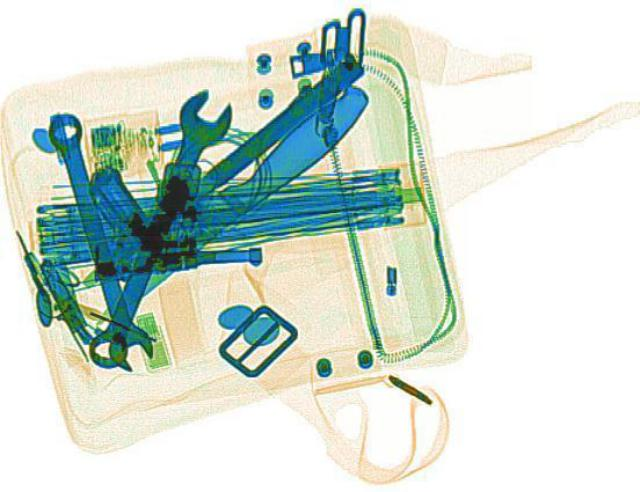Gun: (79, 157, 261, 277)
Knife: (74, 54, 368, 289), (100, 77, 390, 298)
Wrench: (74, 84, 238, 370), (34, 109, 158, 371)
